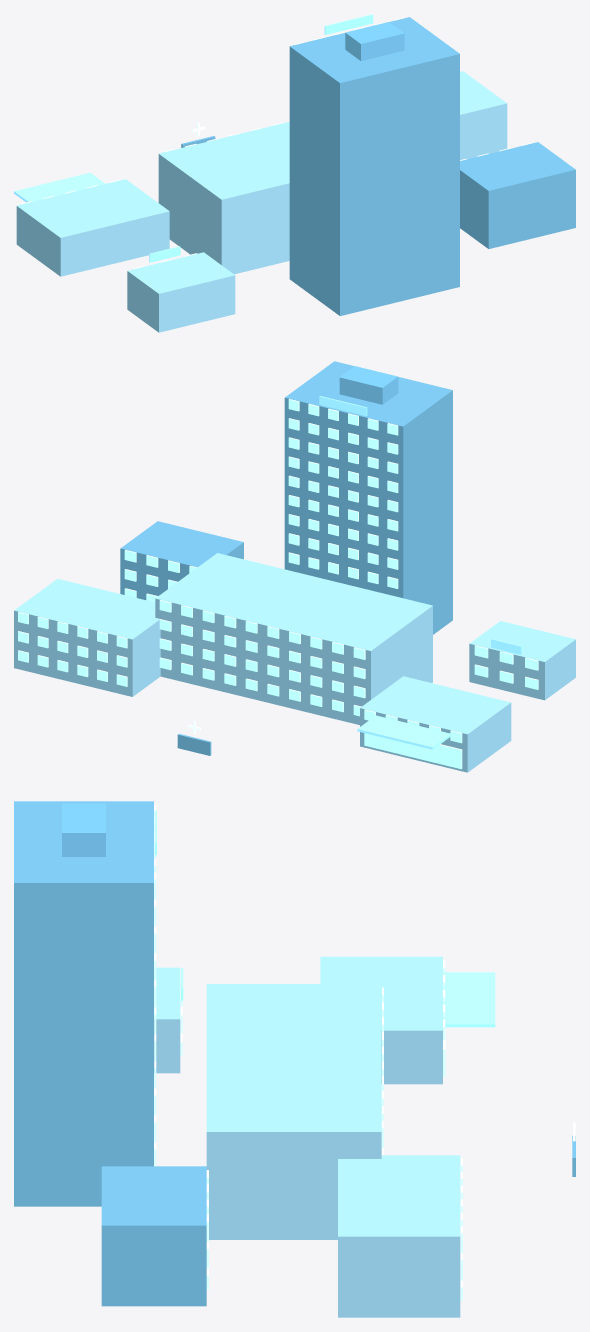
The model's file is hospital-tier0-county.glb.
3 views of the same model, one above another, from view 1: azimuth 30°, elevation 25°; view 2: azimuth 150°, elevation 25°; view 3: azimuth 270°, elevation 25° (orthographic). The views are drawn at different scales.
Parts seen in each view (by area): view 1: HOSPITAL_TIER0; view 2: HOSPITAL_TIER0; view 3: HOSPITAL_TIER0.
Boxes of the visible parts, x1=… form: HOSPITAL_TIER0: x1=14, y1=14, x2=575, y2=332; HOSPITAL_TIER0: x1=14, y1=361, x2=575, y2=772; HOSPITAL_TIER0: x1=14, y1=801, x2=575, y2=1317.
Size of the model in its own units: 83 by 43.8 by 64.2.
